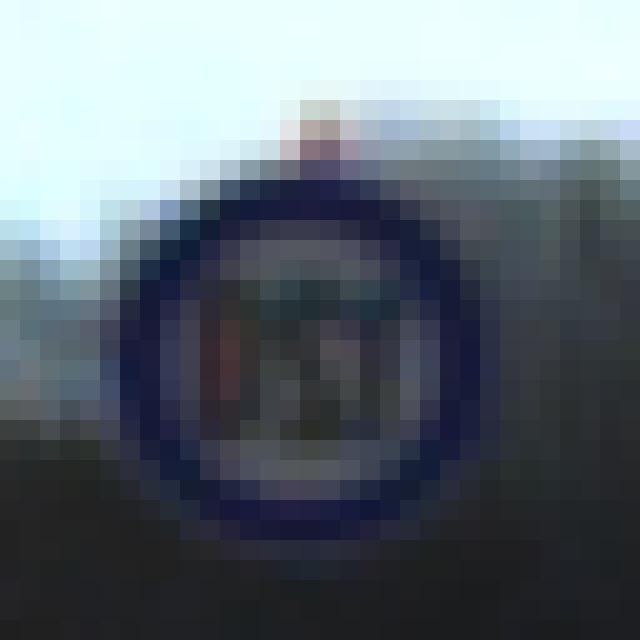SPEED LIMIT 120: (100, 177, 480, 546)
